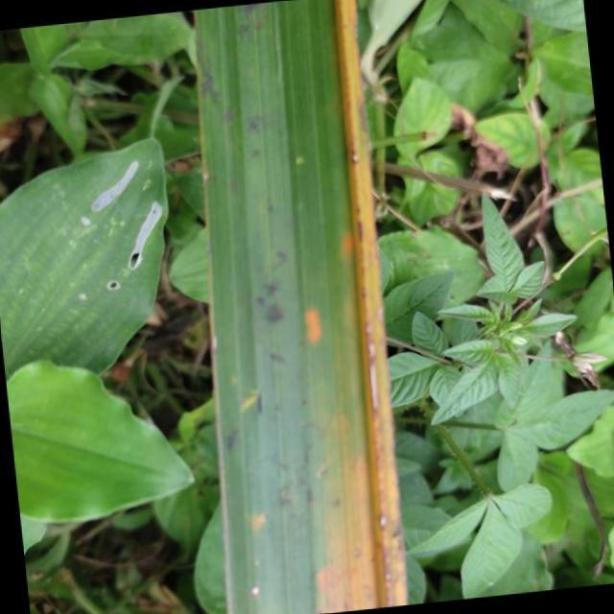Megnesium: (192, 0, 409, 614)
